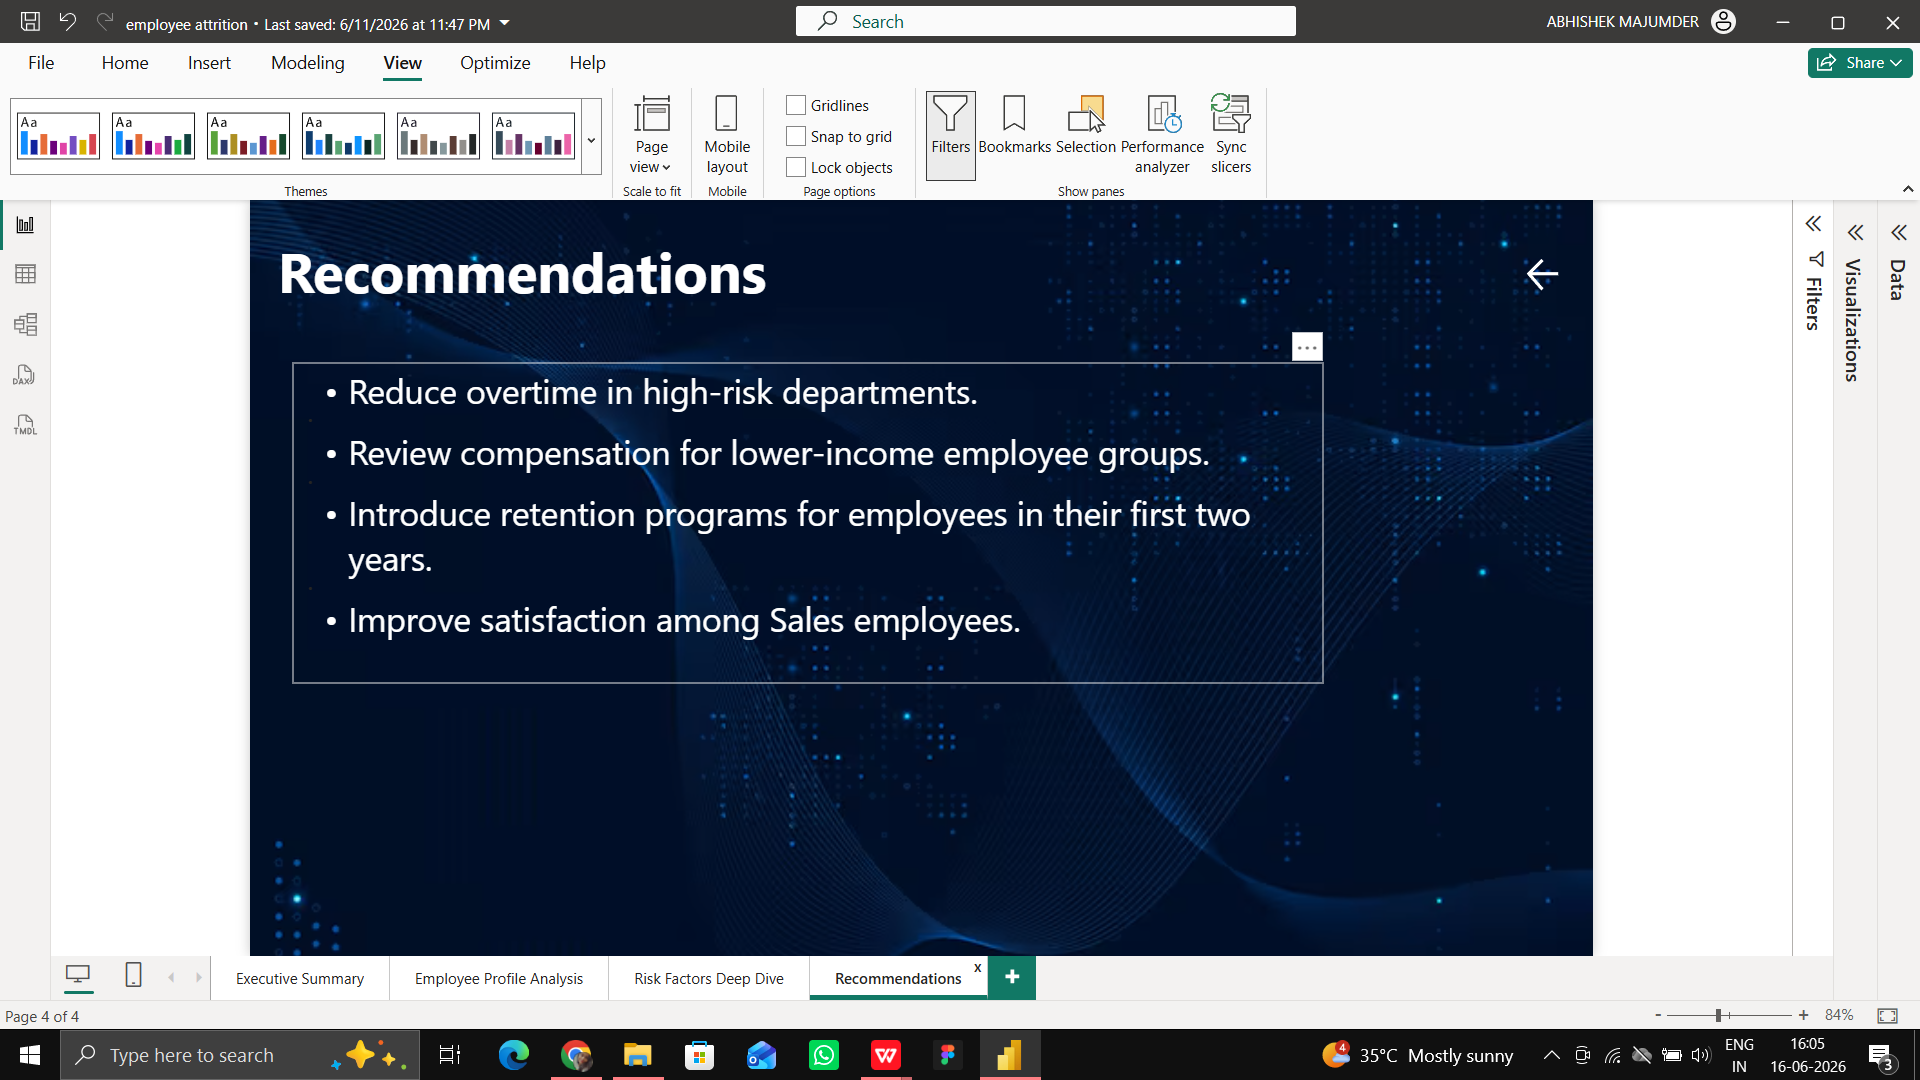

The page's visual inventory and layout, read from the dashboard file:
{"tool":"powerbi","page":{"name":"Recommendations","canvas":[1280,720],"ordinal":3},"visuals":[{"type":"textbox","box":[21,26,496,90],"z":0},{"type":"textbox","box":[40,155,983,306],"z":1000},{"type":"actionButton","box":[1212,51,51,40],"z":2000}]}

Visuals, with their boxes on the page's 1280x720 design canvas (x1, y1, x2, y2). These are canvas units, not pixel positions in the 1920x1080 screenshot, which may show the page scaled, cropped or inside an application window:
textbox: box=[21, 26, 517, 116]
textbox: box=[40, 155, 1023, 461]
actionButton: box=[1212, 51, 1263, 91]
